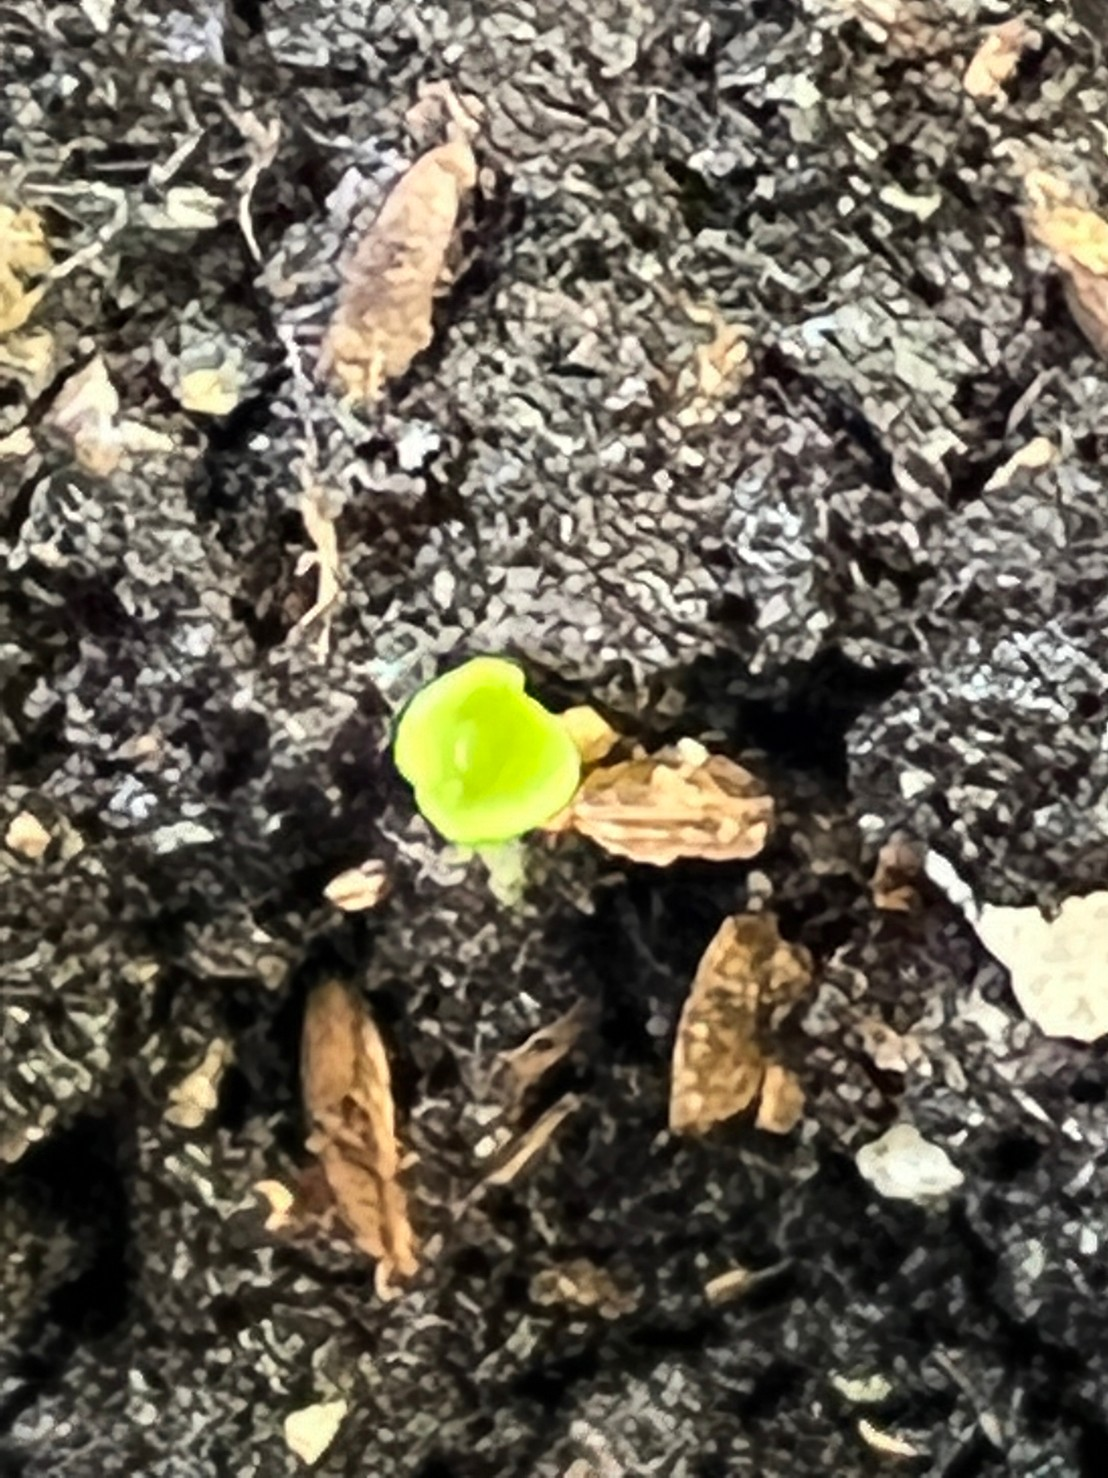week1: (351, 631, 689, 935)
